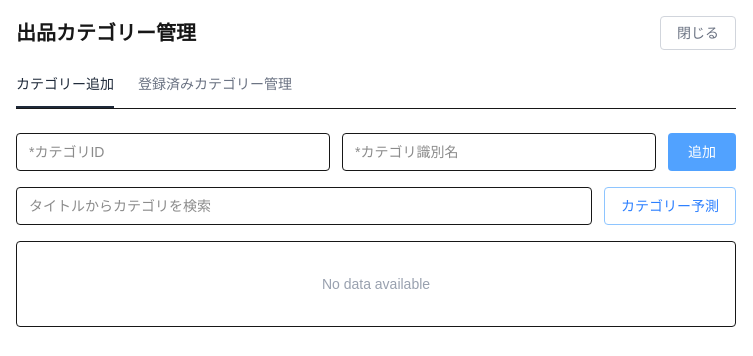
Test: 出品カテゴリー管理 › 抽出が使っているカテゴリーは、削除できない理由を表示する
The width and height of the screenshot is (753, 356).
Click the button "登録済みカテゴリー管理" at (215, 91), box [138,74,292,108]
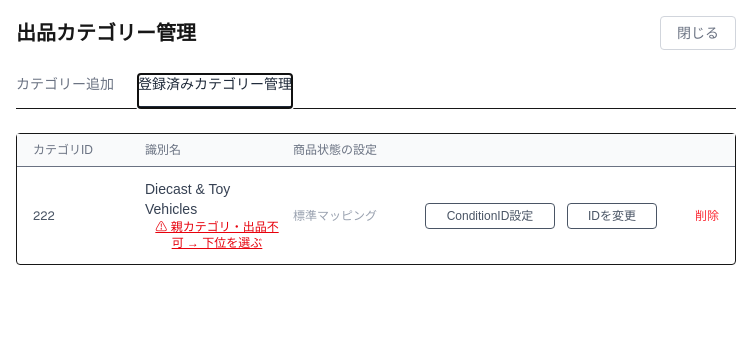
Click the button "削除" at (694, 216), box [669,208,719,224]
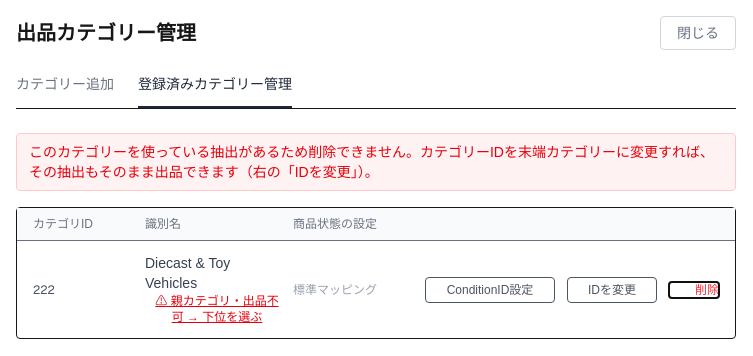
expect the text "使っている抽出があるため削除できません" is shown: met, box [29,144,714,180]
